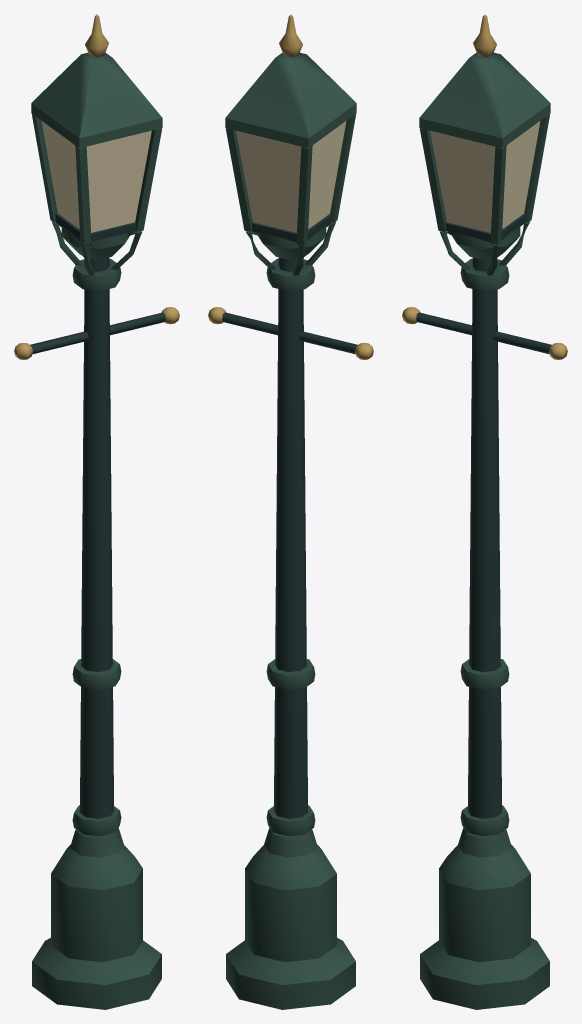
File: ParkLamp.fbx
3 views of the same model, side by side, from view 1: azimuth 30°, elevation 25°; view 2: azimuth 150°, elevation 25°; view 3: azimuth 330°, elevation 25° (orthographic).
Parts seen in each view (by area): view 1: ParkLamp; view 2: ParkLamp; view 3: ParkLamp.
Part boxes in pixels (bbox=[...]): ParkLamp: bbox=[14, 14, 179, 1009]; ParkLamp: bbox=[208, 14, 373, 1009]; ParkLamp: bbox=[402, 14, 567, 1009].
Bounding box in the file's own units: 0.6806 × 3.91 × 0.4435.
